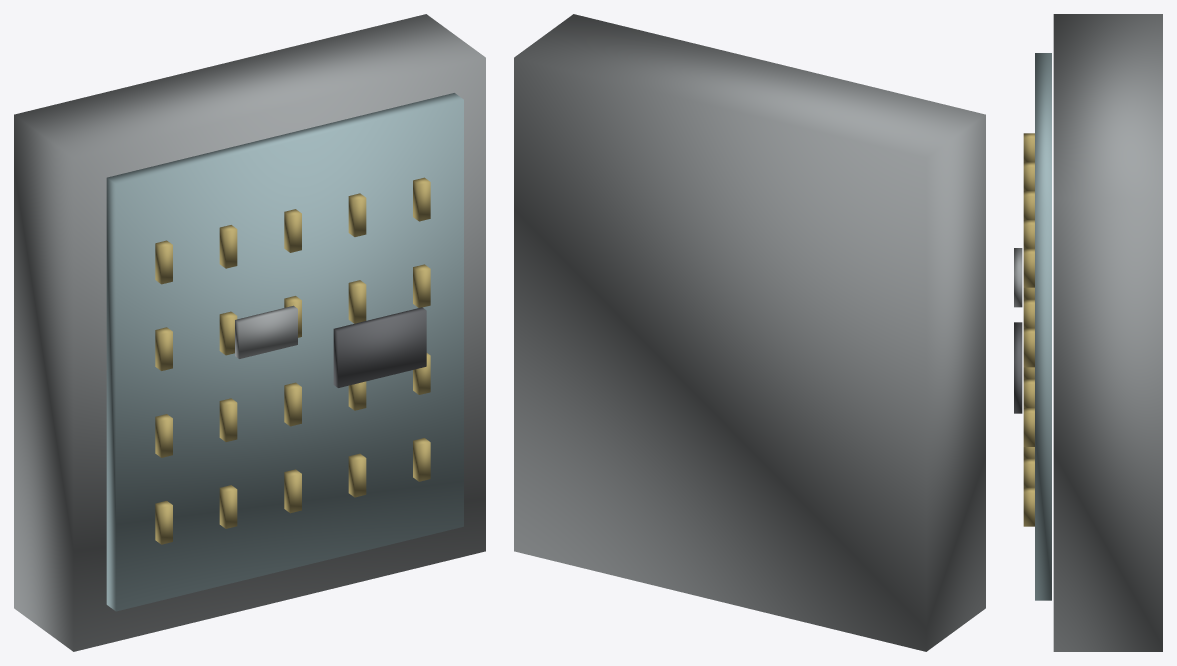
The model's file is wall_key_cabinet__weathered.glb.
3 views of the same model, side by side, from view 1: azimuth 30°, elevation 25°; view 2: azimuth 150°, elevation 25°; view 3: azimuth 270°, elevation 25° (orthographic). The views are drawn at different scales.
Visible parts, largest first — view 1: world; view 2: world; view 3: world.
Boxes of the visible parts, x1,y1,x2,y2 form: world: (14,14,485,651); world: (514,14,985,651); world: (1014,14,1162,651).
Bounding box in the file's own units: 0.64 × 0.7326 × 0.218.
